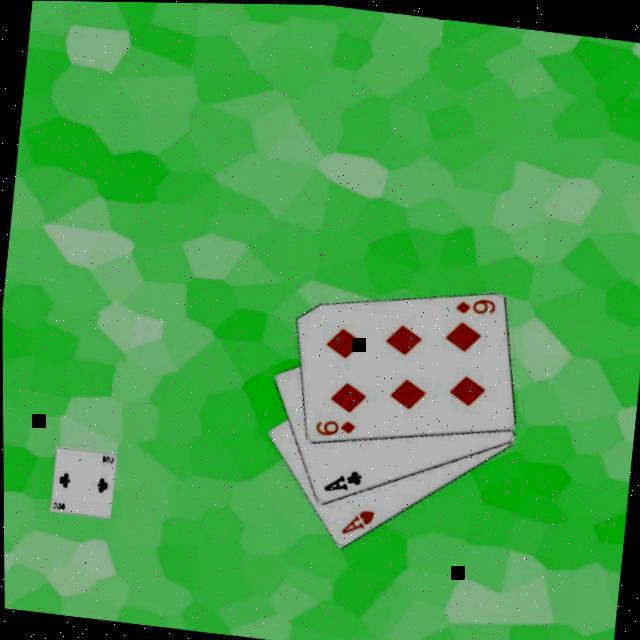6D: (310, 414, 356, 441), (450, 292, 496, 319)
AC: (318, 463, 363, 498)
AH: (335, 504, 375, 540)
